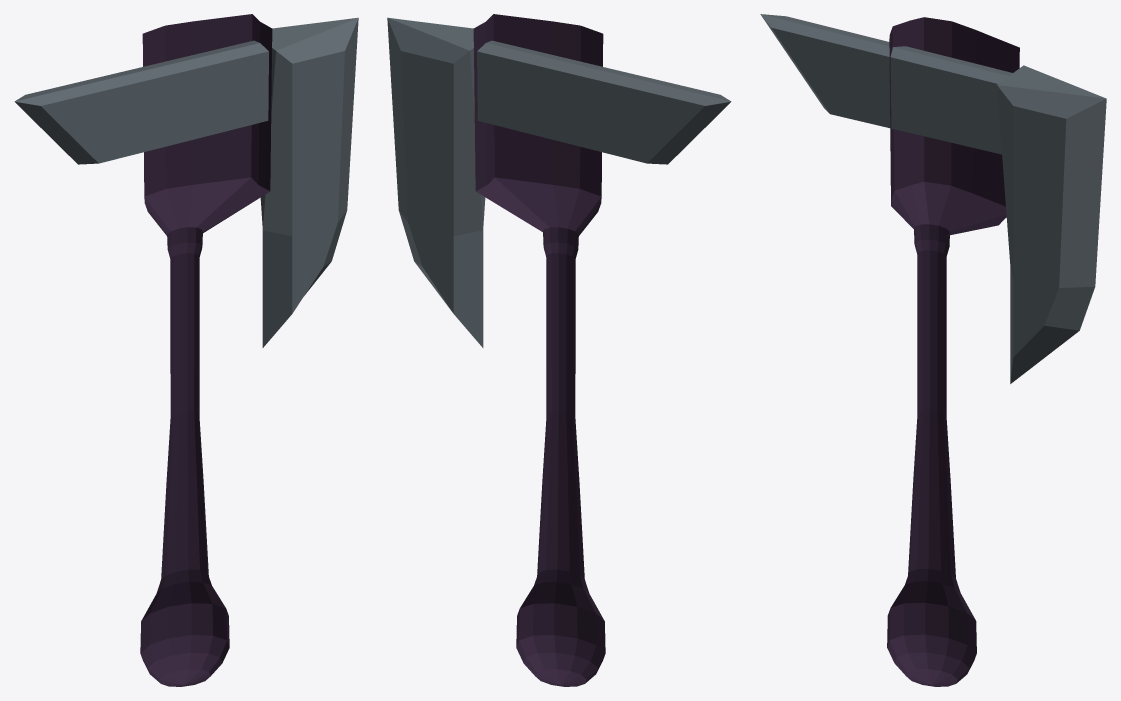
Rendered from SM_Prop_hacha.fbx.
3 renders of one model, left to right at view 1: azimuth 30°, elevation 25°; view 2: azimuth 150°, elevation 25°; view 3: azimuth 330°, elevation 25°, orthographic.
Parts seen in each view (by area): view 1: mango; view 2: mango; view 3: mango.
Boxes of the visible parts, x1,y1,x2,y2 form: mango: (14, 14, 358, 686); mango: (387, 14, 731, 686); mango: (760, 14, 1106, 686).
Size of the model in its own units: 103 by 184 by 20.51.
1 material, 1 textured.
